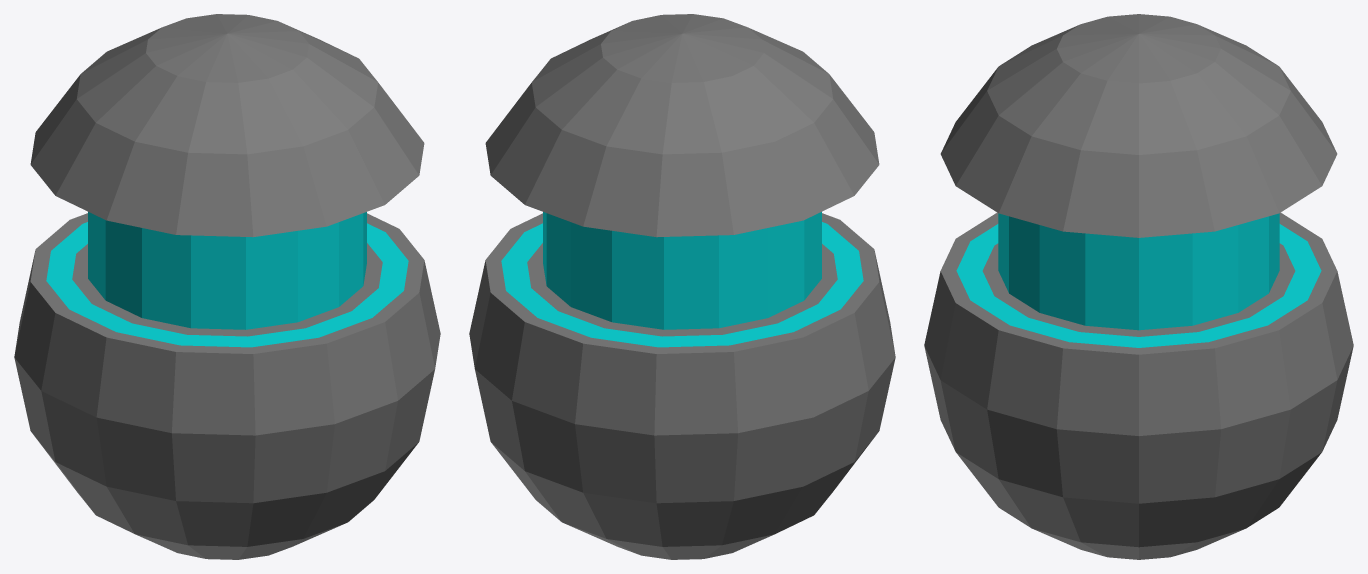
Rendered from bombEnemy.glb.
3 views of the same model, side by side, from view 1: azimuth 30°, elevation 25°; view 2: azimuth 150°, elevation 25°; view 3: azimuth 270°, elevation 25° (orthographic).
Parts seen in each view (by area): view 1: granada; view 2: granada; view 3: granada.
Boxes of the visible parts, bbox=[...] form: granada: bbox=[14, 14, 440, 559]; granada: bbox=[469, 14, 895, 559]; granada: bbox=[924, 14, 1353, 559].
Size of the model in its own units: 2 by 2.6 by 2.
